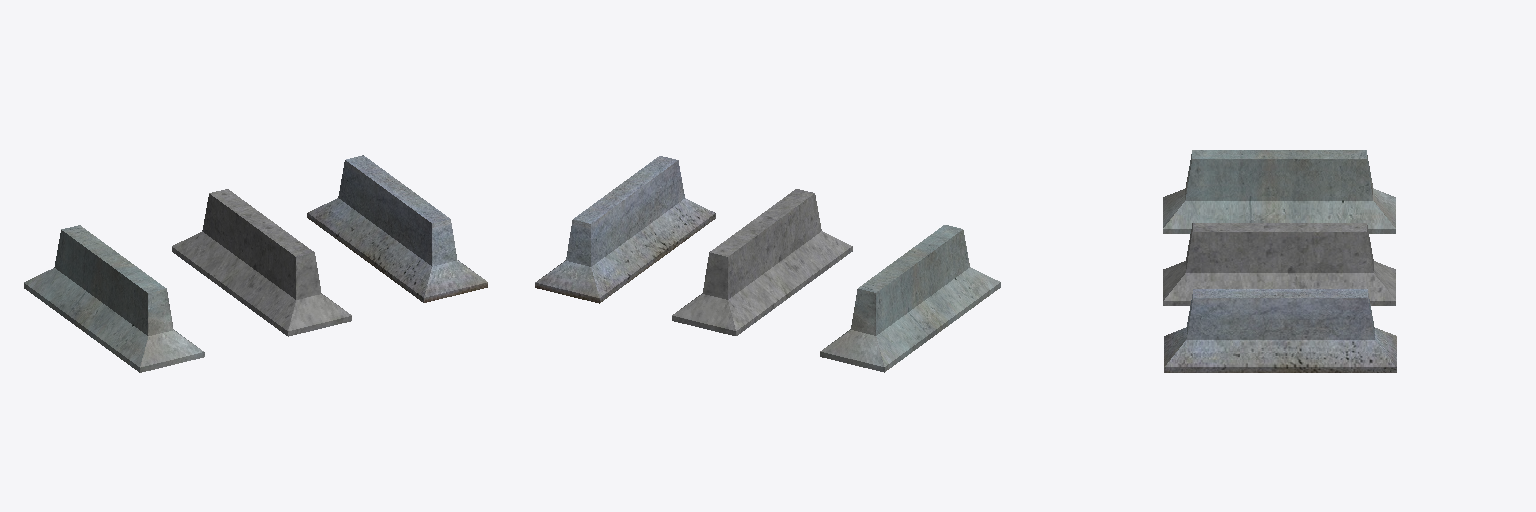
The picture shows the model from 3 angles: view 1: azimuth 30°, elevation 25°; view 2: azimuth 150°, elevation 25°; view 3: azimuth 270°, elevation 25°; orthographic projection.
Parts seen in each view (by area): view 1: barrier_Cube.001, barrier.002_Cube.003, barrier.001_Cube.002; view 2: barrier_Cube.001, barrier.002_Cube.003, barrier.001_Cube.002; view 3: barrier.002_Cube.003, barrier_Cube.001, barrier.001_Cube.002.
Part boxes in pixels (x1,y1,x2,y2): barrier_Cube.001: (24,225,204,372); barrier.002_Cube.003: (307,155,487,302); barrier.001_Cube.002: (172,189,351,336); barrier_Cube.001: (820,225,1000,372); barrier.002_Cube.003: (535,156,715,303); barrier.001_Cube.002: (672,189,852,335); barrier.002_Cube.003: (1164,289,1396,372); barrier_Cube.001: (1163,150,1395,233); barrier.001_Cube.002: (1163,223,1395,305).
Bounding box in the file's own units: 7.66 × 1.33 × 4.45.
1 materials, 1 textured.